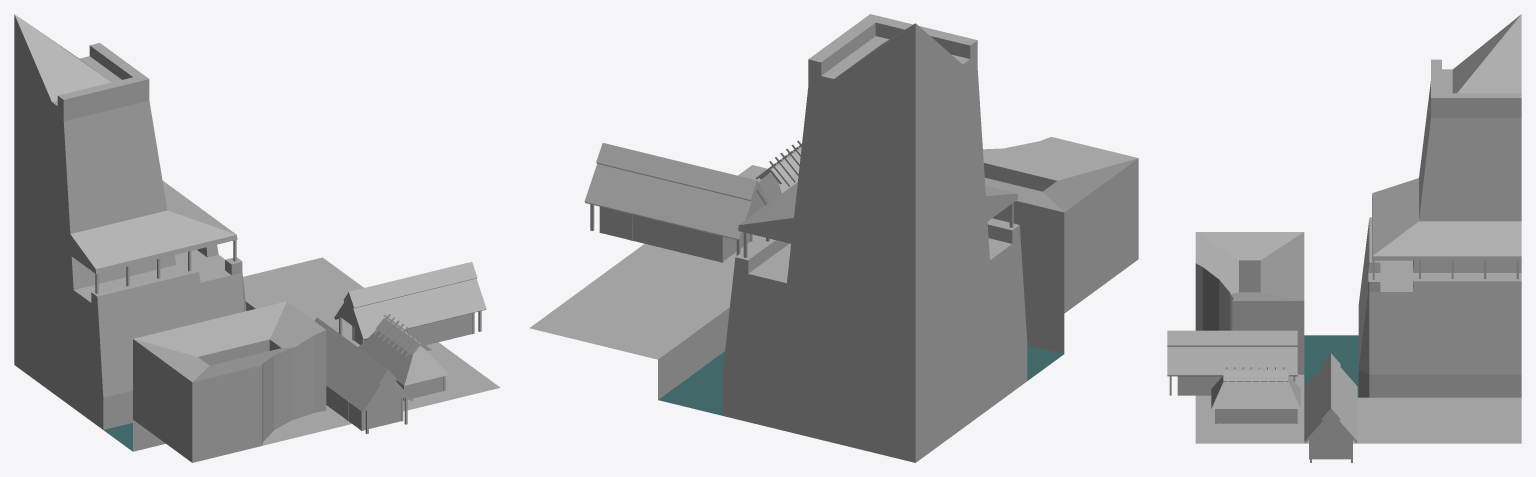
The picture shows the model from 3 angles, left to right: view 1: azimuth 30°, elevation 25°; view 2: azimuth 150°, elevation 25°; view 3: azimuth 270°, elevation 25°; orthographic projection. The views are drawn at different scales.
Visible parts, largest first — view 1: cr12; view 2: cr12; view 3: cr12.
Part boxes in pixels (x1,y1,x2,y2): cr12: (14, 14, 500, 462); cr12: (529, 14, 1138, 462); cr12: (1167, 14, 1521, 462).
Size of the model in its own units: 34.42 by 32.63 by 32.59.
